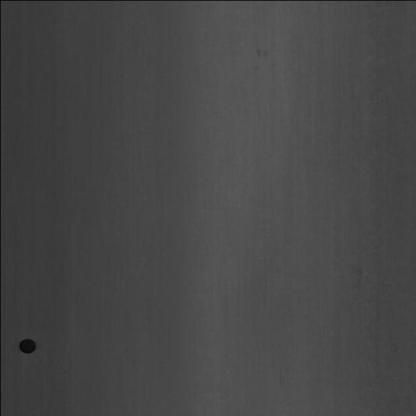punching_hole: (15, 332, 38, 358)
